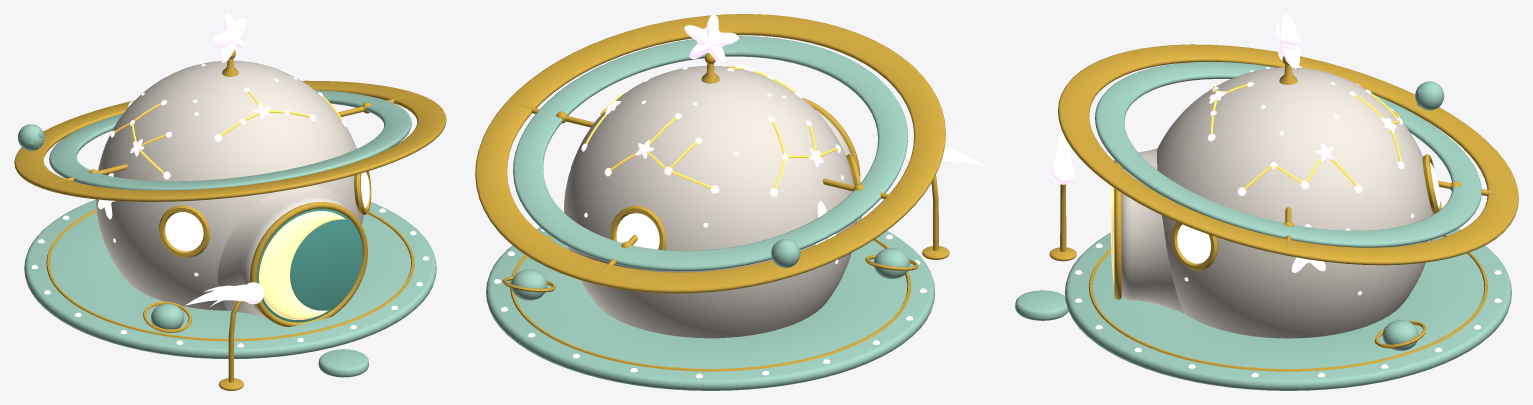
Rendered from house_07_0703.fbx.
3 renders of one model, left to right at view 1: azimuth 30°, elevation 25°; view 2: azimuth 150°, elevation 25°; view 3: azimuth 270°, elevation 25°, orthographic. The views are drawn at different scales.
Parts seen in each view (by area): view 1: House07_PlanetDome, House07_RingDeck_Engawa, House07_PlanetRing_Outer, House07_PlanetRing_Inner, House07_MoonDisc, House07_EntrancePod, House07_CrescentDoor, House07_MoonDiscRim, House07_DeckGoldInlay, House07_RoundWindows, House07_WindowRims, House07_MoonStep (+10 smaller); view 2: House07_PlanetDome, House07_RingDeck_Engawa, House07_PlanetRing_Outer, House07_PlanetRing_Inner, House07_DeckGoldInlay, House07_PlanetStools, House07_TopStar, House07_ConstellationLines, House07_RoundWindows, House07_WindowRims, House07_RingSupports, House07_ConstellationDots (+6 smaller); view 3: House07_PlanetDome, House07_RingDeck_Engawa, House07_PlanetRing_Outer, House07_PlanetRing_Inner, House07_EntrancePod, House07_DeckGoldInlay, House07_MoonStep, House07_RoundWindows, House07_WindowRims, House07_TopStar, House07_MoonDiscRim, House07_ConstellationLines (+6 smaller).
Part boxes in pixels (x1,y1,x2,y2): House07_PlanetDome: [96, 60, 363, 310]; House07_RingDeck_Engawa: [24, 199, 436, 358]; House07_PlanetRing_Outer: [14, 80, 446, 201]; House07_PlanetRing_Inner: [49, 90, 411, 190]; House07_MoonDisc: [257, 208, 362, 322]; House07_EntrancePod: [217, 185, 347, 318]; House07_CrescentDoor: [259, 211, 345, 319]; House07_MoonDiscRim: [250, 202, 367, 327]; House07_DeckGoldInlay: [46, 209, 414, 341]; House07_RoundWindows: [165, 172, 369, 251]; House07_WindowRims: [159, 171, 371, 257]; House07_MoonStep: [318, 349, 368, 377]; House07_PlanetDome: [564, 66, 856, 338]; House07_RingDeck_Engawa: [486, 218, 934, 390]; House07_PlanetRing_Outer: [475, 14, 945, 293]; House07_PlanetRing_Inner: [513, 36, 908, 271]; House07_DeckGoldInlay: [510, 235, 910, 371]; House07_PlanetStools: [511, 248, 909, 300]; House07_TopStar: [684, 14, 738, 64]; House07_ConstellationLines: [585, 66, 837, 188]; House07_RoundWindows: [616, 175, 860, 249]; House07_WindowRims: [610, 154, 860, 269]; House07_RingSupports: [518, 104, 902, 272]; House07_ConstellationDots: [568, 65, 843, 263]; House07_PlanetDome: [1157, 67, 1433, 338]; House07_RingDeck_Engawa: [1065, 228, 1511, 390]; House07_PlanetRing_Outer: [1058, 44, 1518, 265]; House07_PlanetRing_Inner: [1095, 61, 1481, 247]; House07_EntrancePod: [1121, 148, 1184, 313]; House07_DeckGoldInlay: [1088, 235, 1487, 371]; House07_MoonStep: [1015, 290, 1068, 320]; House07_RoundWindows: [1177, 162, 1440, 263]; House07_WindowRims: [1171, 154, 1441, 270]; House07_TopStar: [1274, 14, 1301, 68]; House07_MoonDiscRim: [1114, 160, 1121, 299]; House07_ConstellationLines: [1210, 84, 1401, 189].
Size of the model in its own units: 5.48 by 3.79 by 5.86.
